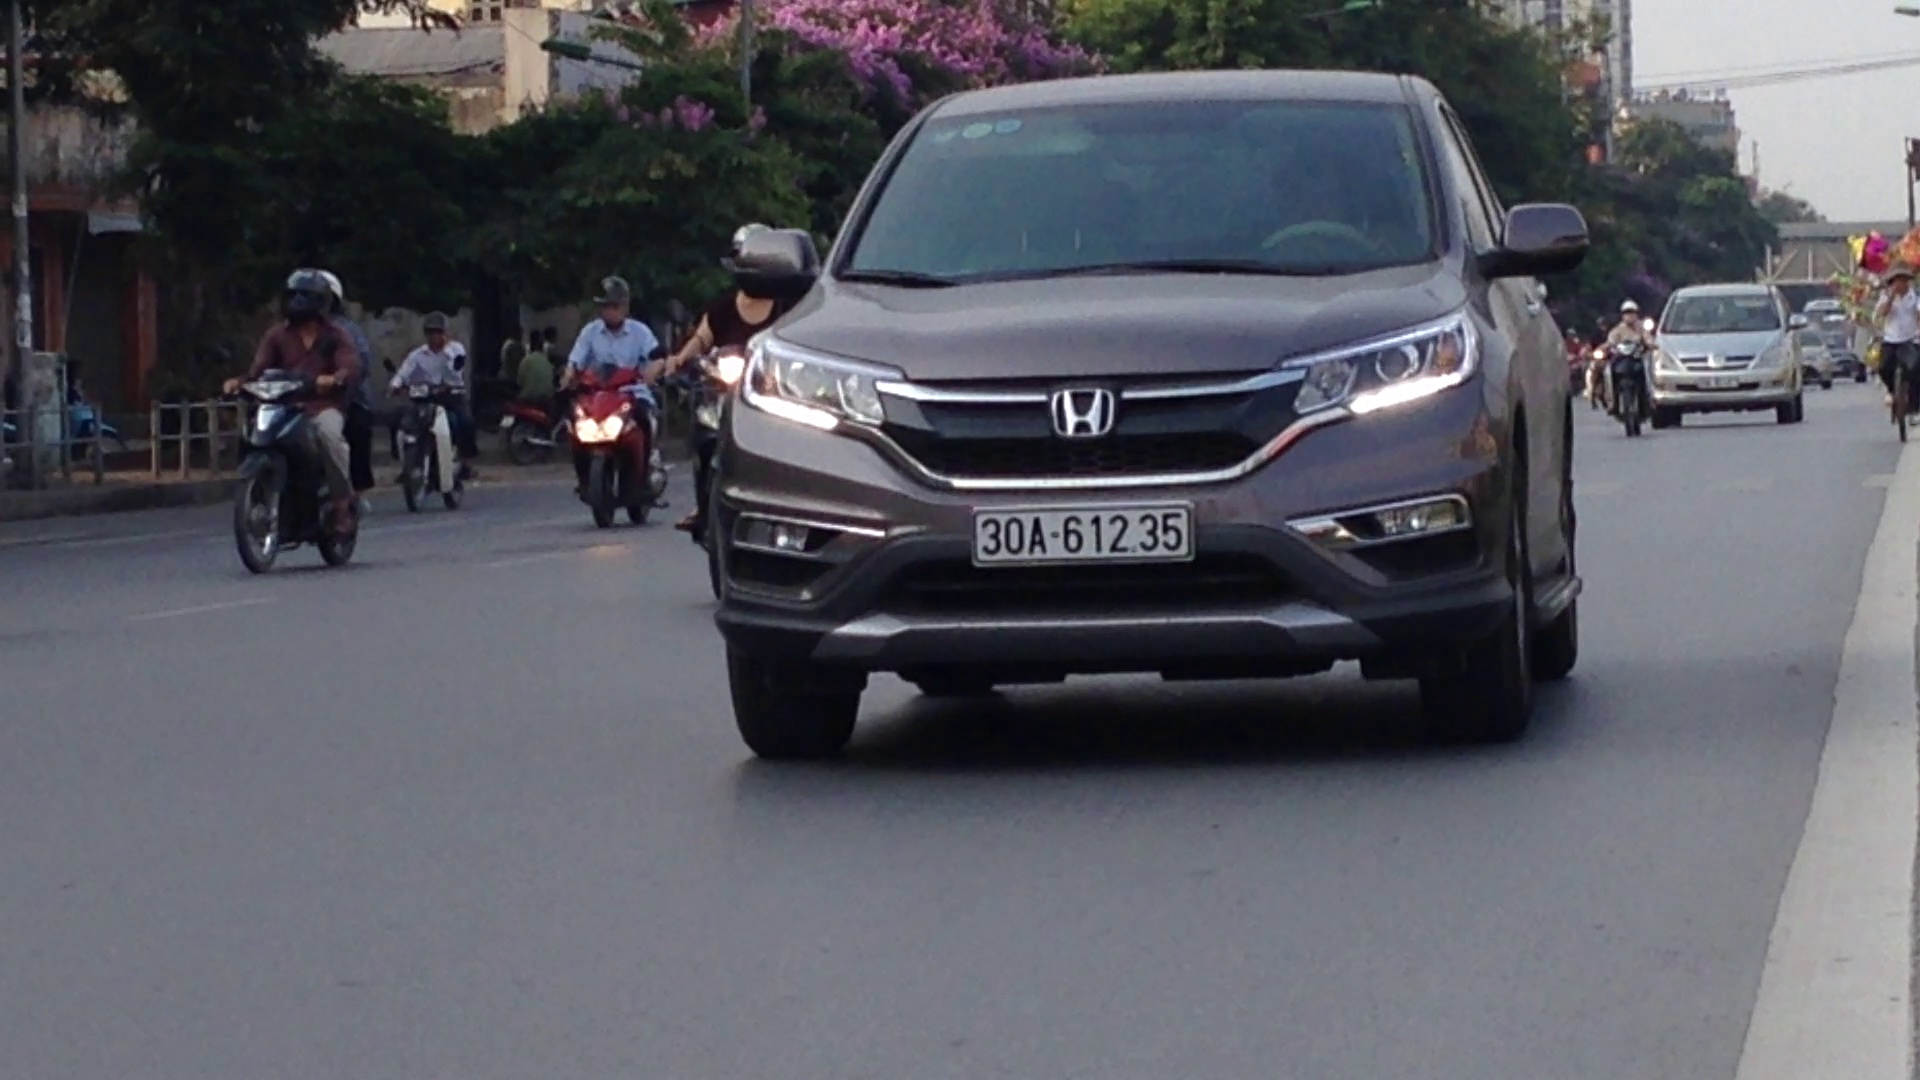person: (969, 501, 1198, 565)
